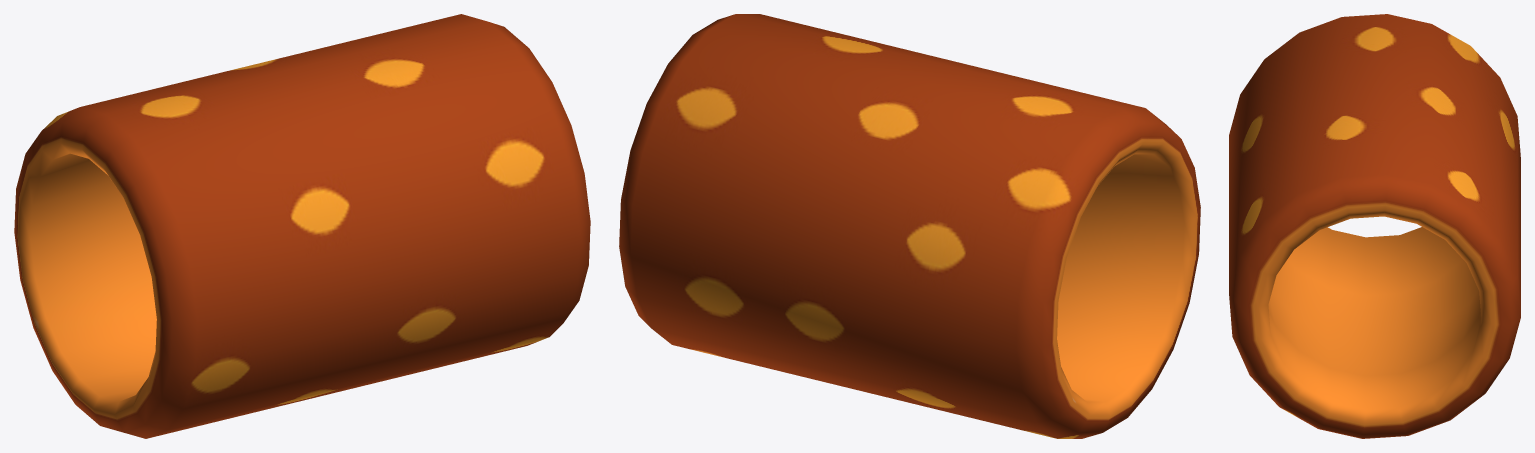
The model's file is LogHollow.fbx.
3 renders of one model, left to right at view 1: azimuth 30°, elevation 25°; view 2: azimuth 150°, elevation 25°; view 3: azimuth 270°, elevation 25°, orthographic. The views are drawn at different scales.
Visible parts, largest first — view 1: LogHollow; view 2: LogHollow; view 3: LogHollow.
Part boxes in pixels (bbox=[...]): LogHollow: bbox=[14, 14, 590, 438]; LogHollow: bbox=[619, 14, 1200, 438]; LogHollow: bbox=[1229, 14, 1520, 438].
Size of the model in its own units: 5.94 by 4.07 by 4.07.
